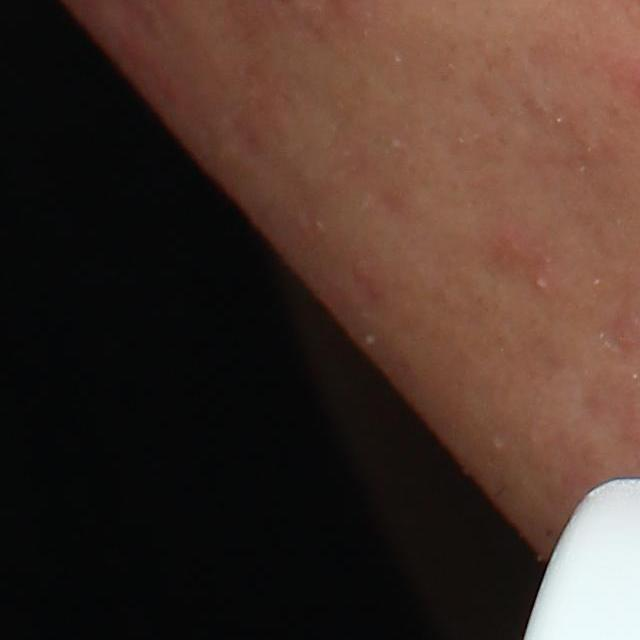papule: (479, 215, 537, 275)
